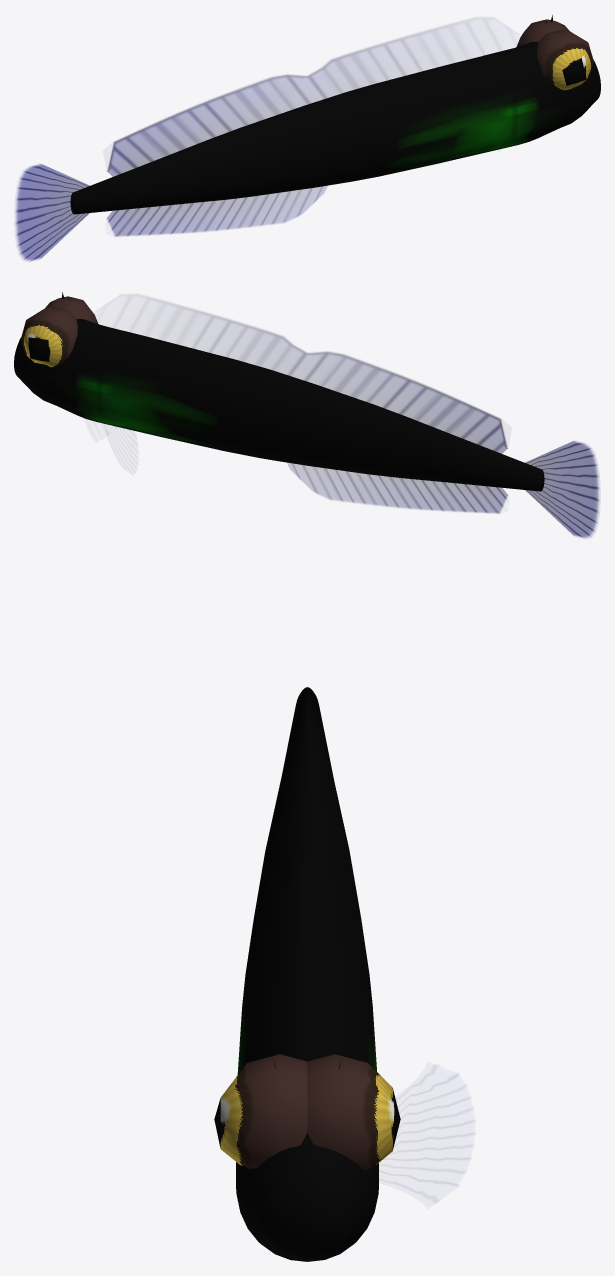
The model's file is tailspot_blenny_lod1.glb.
3 renders of one model, top to bottom at view 1: azimuth 30°, elevation 25°; view 2: azimuth 150°, elevation 25°; view 3: azimuth 270°, elevation 25°, orthographic. The views are drawn at different scales.
Visible parts, largest first — view 1: Body, FinDorsal, FinAnal, FinCaudal, EyeR, EyeL; view 2: Body, FinDorsal, FinAnal, FinCaudal, EyeL, EyeR; view 3: Body, EyeL, EyeR.
Part boxes in pixels (<box>): Body: <box>70,15,600,214</box>; FinDorsal: <box>107,24,454,176</box>; FinAnal: <box>106,186,327,236</box>; FinCaudal: <box>15,164,89,260</box>; EyeR: <box>537,29,593,90</box>; EyeL: <box>516,19,569,47</box>; Body: <box>14,292,544,491</box>; FinDorsal: <box>160,301,507,453</box>; FinAnal: <box>287,463,508,513</box>; FinCaudal: <box>525,441,599,537</box>; EyeL: <box>21,306,77,367</box>; EyeR: <box>45,296,98,324</box>; Body: <box>236,687,378,1261</box>; EyeL: <box>307,1054,400,1170</box>; EyeR: <box>214,1054,307,1168</box>.
Bounding box in the file's own units: 1 × 0.2651 × 0.2528.
Materials: 4 (3 with a texture image).
